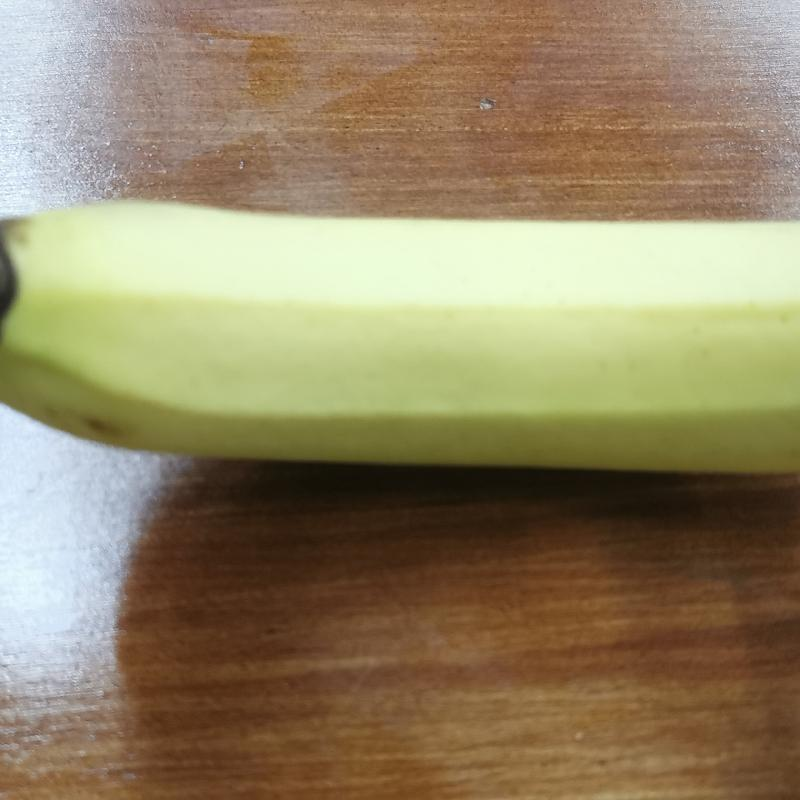bananas: (4, 188, 799, 483)
